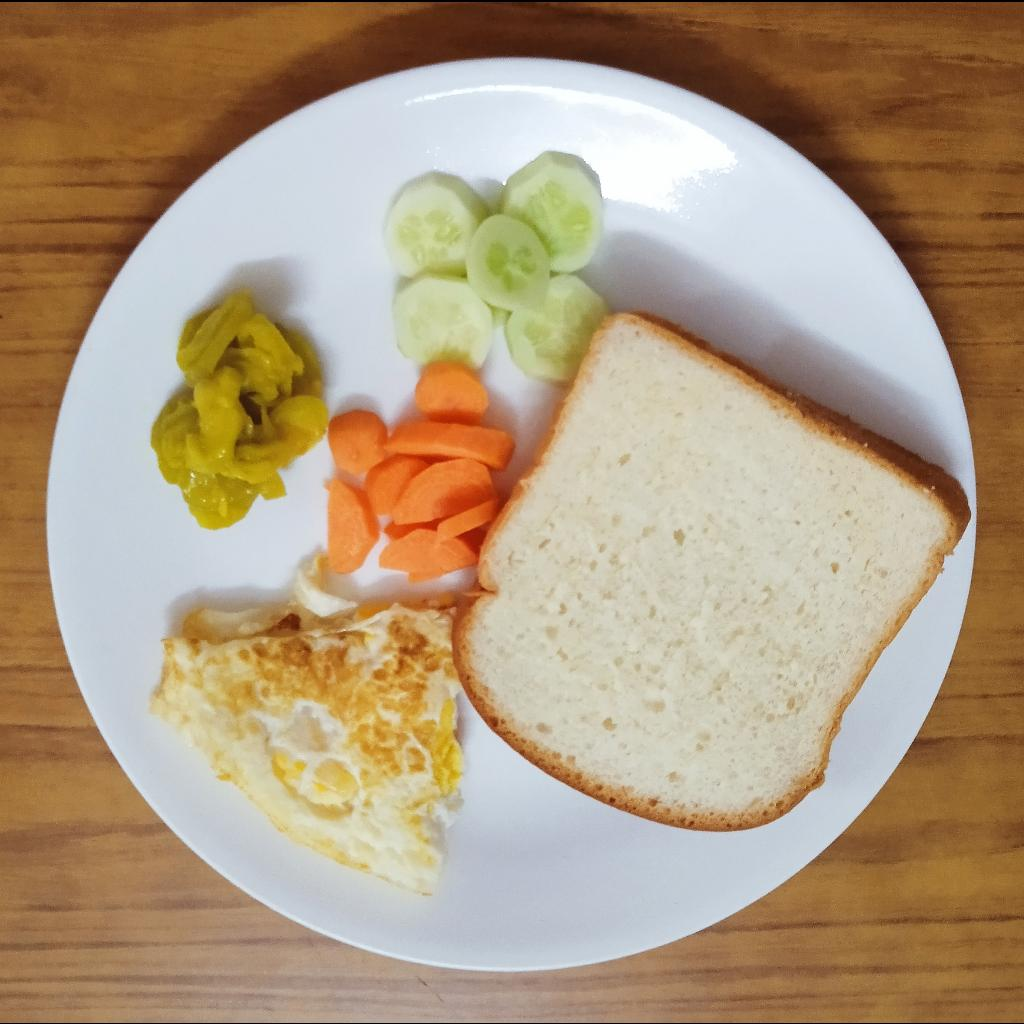bread: (447, 299, 974, 831)
carrot: (326, 368, 513, 581)
cucumber: (382, 152, 609, 386)
egg-poached: (145, 554, 468, 900)
lau: (152, 291, 329, 529)
